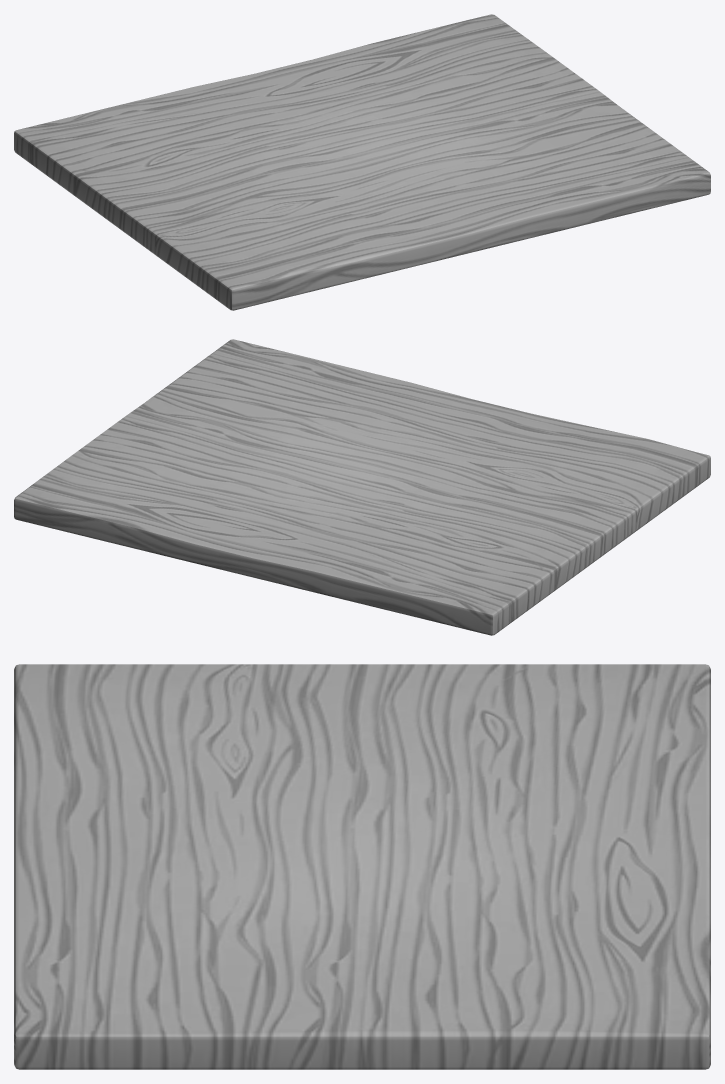
Rendered from geo_board.fbx.
The picture shows the model from 3 angles, top to bottom: view 1: azimuth 30°, elevation 25°; view 2: azimuth 150°, elevation 25°; view 3: azimuth 270°, elevation 25°; orthographic projection. The views are drawn at different scales.
Visible parts, largest first — view 1: geo_board; view 2: geo_board; view 3: geo_board.
Boxes of the visible parts, x1,y1,x2,y2 form: geo_board: (14, 14, 710, 310); geo_board: (14, 339, 710, 635); geo_board: (14, 664, 710, 1069).
Size of the model in its own units: 0.7993 by 0.0388 by 0.6302.
1 material, 1 textured.
